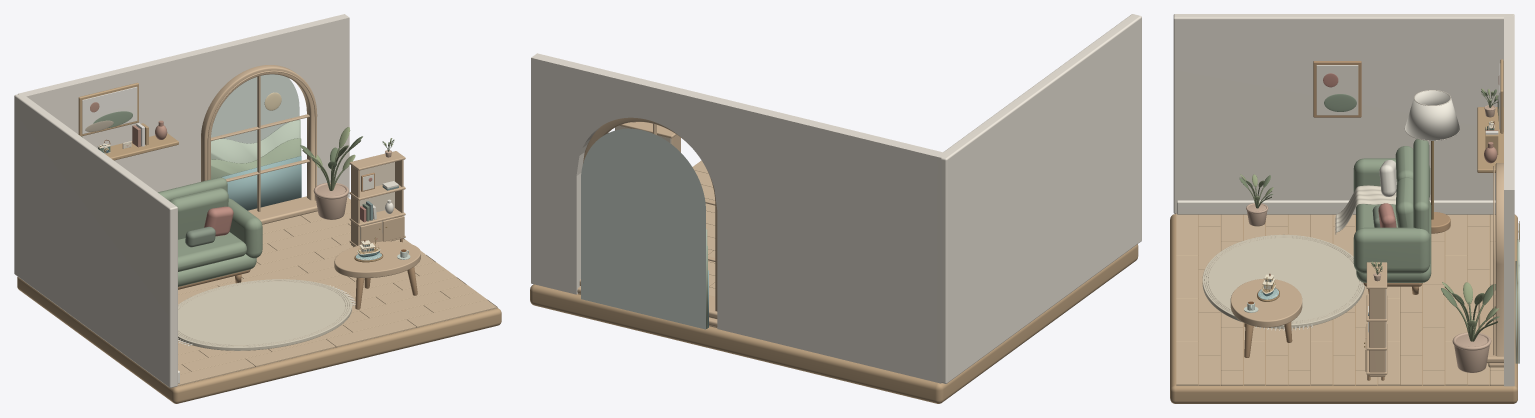
Rendered from home-room.glb.
3 views of the same model, side by side, from view 1: azimuth 30°, elevation 25°; view 2: azimuth 150°, elevation 25°; view 3: azimuth 270°, elevation 25° (orthographic). The views are drawn at different scales.
Parts seen in each view (by area): view 1: ENV_02_Room apricot plaster, ENV_01_Floor light oak, ENV_24_Pale oak, ENV_33_Rug flax, ENV_00_Floor edge, ENV_26_Sofa emerald fabric, ENV_04_Hazy sky, ENV_07_Distant lake, ENV_05_Distant mist, ENV_13_Shelf honey oak, ENV_20_Warm plaster, ENV_06_Distant sage hills (+9 smaller); view 2: ENV_02_Room apricot plaster, ENV_04_Hazy sky, ENV_00_Floor edge, ENV_24_Pale oak, ENV_01_Floor light oak; view 3: ENV_02_Room apricot plaster, ENV_01_Floor light oak, ENV_00_Floor edge, ENV_33_Rug flax, ENV_26_Sofa emerald fabric, ENV_24_Pale oak, ENV_03_Cream trim, ENV_31_Linen warm ivory, ENV_14_Ceramic chalk, ENV_10_Gallery paper, ENV_13_Shelf honey oak, ENV_28_Oat throw (+8 smaller).
Boxes of the visible parts, x1=… form: ENV_02_Room apricot plaster: x1=14, y1=14, x2=349, y2=387; ENV_01_Floor light oak: x1=177, y1=197, x2=497, y2=386; ENV_24_Pale oak: x1=201, y1=65, x2=420, y2=277; ENV_33_Rug flax: x1=178, y1=279, x2=351, y2=350; ENV_00_Floor edge: x1=17, y1=277, x2=501, y2=403; ENV_26_Sofa emerald fabric: x1=158, y1=177, x2=262, y2=286; ENV_04_Hazy sky: x1=211, y1=74, x2=299, y2=143; ENV_07_Distant lake: x1=221, y1=156, x2=301, y2=210; ENV_05_Distant mist: x1=211, y1=120, x2=300, y2=163; ENV_13_Shelf honey oak: x1=78, y1=82, x2=178, y2=160; ENV_20_Warm plaster: x1=82, y1=86, x2=144, y2=146; ENV_06_Distant sage hills: x1=211, y1=138, x2=301, y2=179; ENV_02_Room apricot plaster: x1=531, y1=14, x2=1141, y2=383; ENV_04_Hazy sky: x1=581, y1=128, x2=705, y2=329; ENV_00_Floor edge: x1=530, y1=244, x2=1138, y2=403; ENV_24_Pale oak: x1=577, y1=117, x2=717, y2=326; ENV_01_Floor light oak: x1=578, y1=160, x2=717, y2=327; ENV_02_Room apricot plaster: x1=1173, y1=14, x2=1514, y2=386; ENV_01_Floor light oak: x1=1176, y1=213, x2=1503, y2=385; ENV_00_Floor edge: x1=1170, y1=214, x2=1517, y2=403; ENV_33_Rug flax: x1=1202, y1=234, x2=1364, y2=328; ENV_26_Sofa emerald fabric: x1=1353, y1=139, x2=1431, y2=282; ENV_24_Pale oak: x1=1230, y1=163, x2=1503, y2=376; ENV_03_Cream trim: x1=1177, y1=200, x2=1495, y2=214; ENV_31_Linen warm ivory: x1=1255, y1=90, x2=1459, y2=332; ENV_14_Ceramic chalk: x1=1246, y1=105, x2=1495, y2=372; ENV_10_Gallery paper: x1=1316, y1=65, x2=1358, y2=115; ENV_13_Shelf honey oak: x1=1477, y1=59, x2=1503, y2=172; ENV_28_Oat throw: x1=1336, y1=185, x2=1396, y2=232.
Size of the model in its own units: 6.26 by 3.55 by 5.24.
